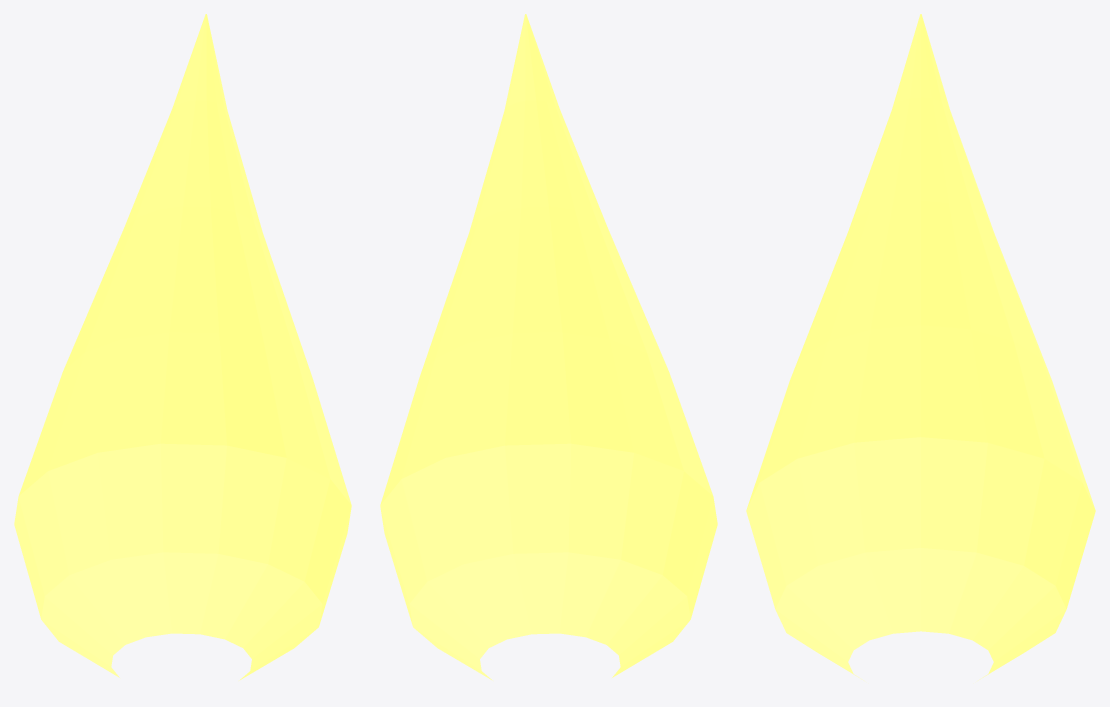
The model's file is oil_flame.glb.
3 renders of one model, left to right at view 1: azimuth 30°, elevation 25°; view 2: azimuth 150°, elevation 25°; view 3: azimuth 270°, elevation 25°, orthographic. The views are drawn at different scales.
Bounding box in the file's own units: 0.48 × 1 × 0.48.
